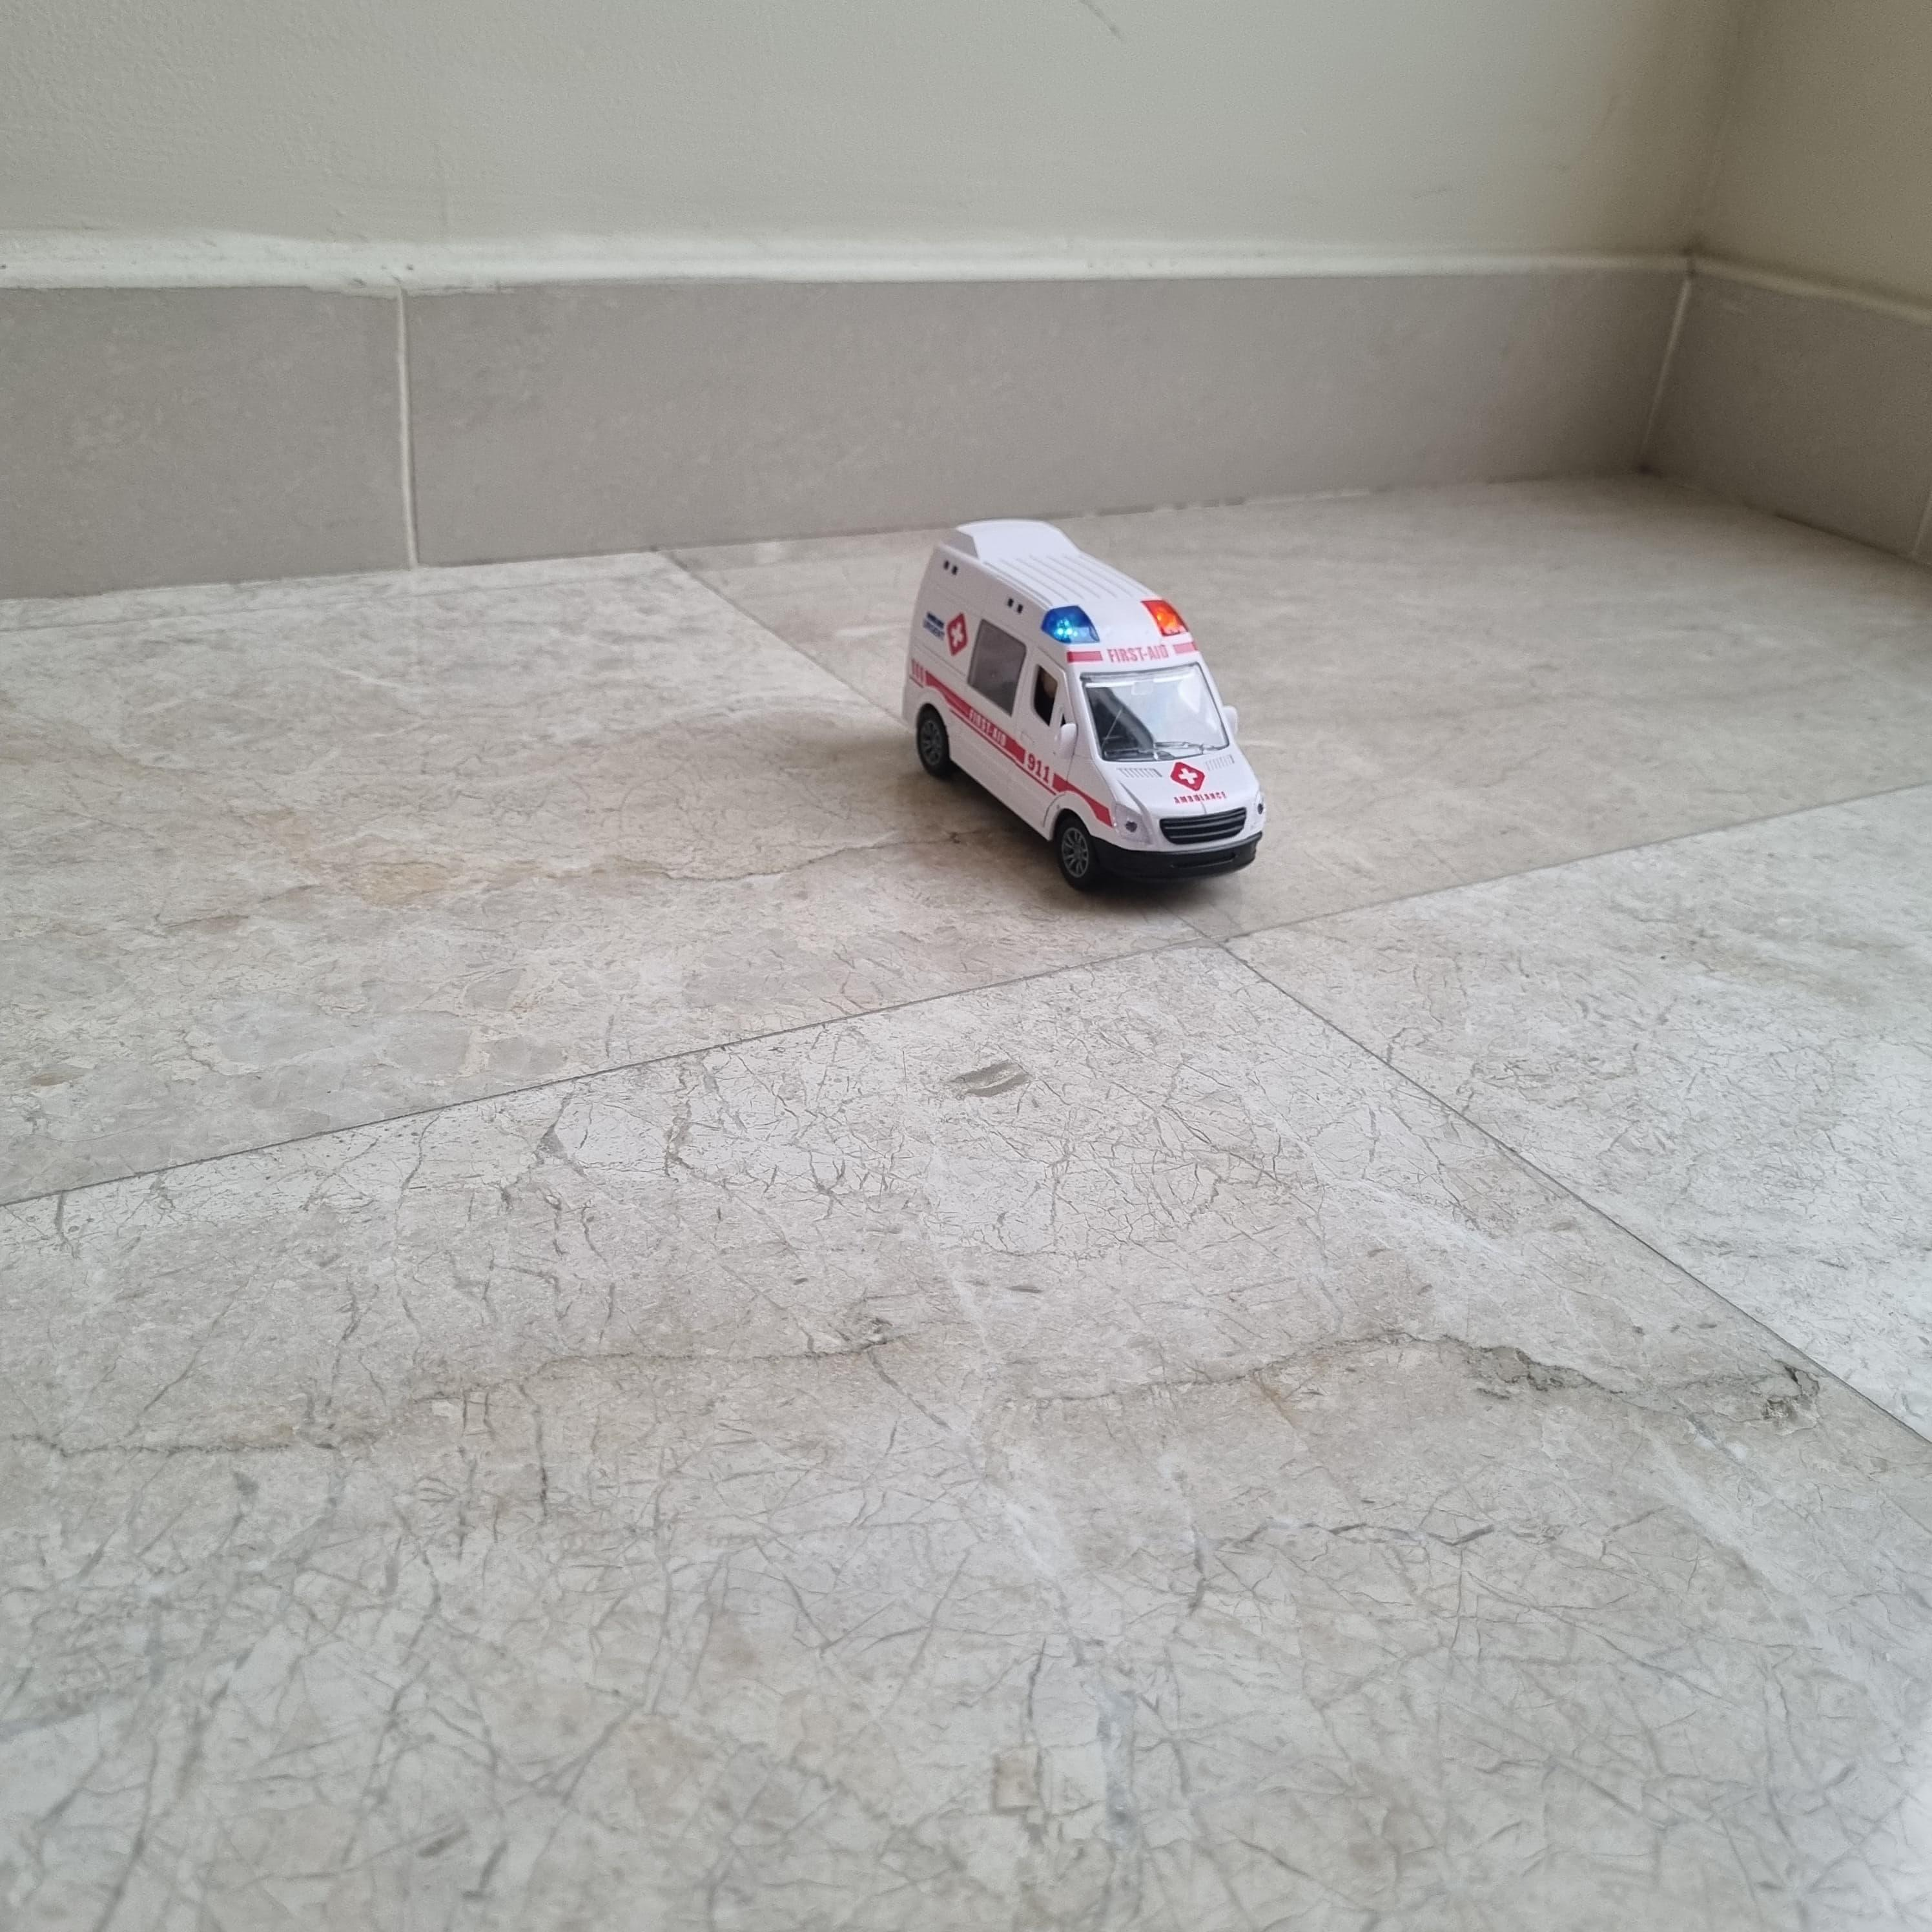ambulance_on: (913, 517, 1276, 899)
